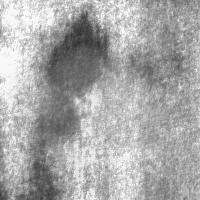patches: (21, 45, 155, 179), (111, 82, 200, 200), (85, 118, 200, 200), (43, 10, 106, 97), (32, 91, 81, 148), (23, 156, 62, 198)
